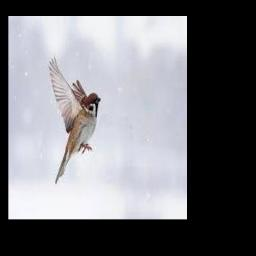Sparrow: (47, 56, 100, 184)
